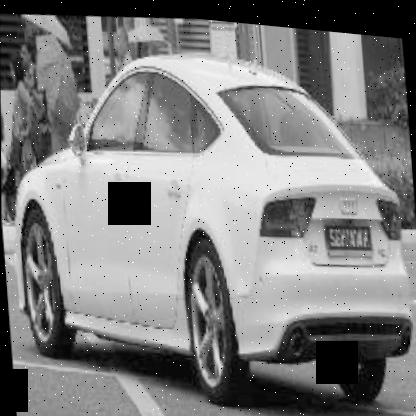not_emergency: (0, 1, 415, 410)
